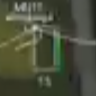hacks_1: (1, 1, 96, 88)
